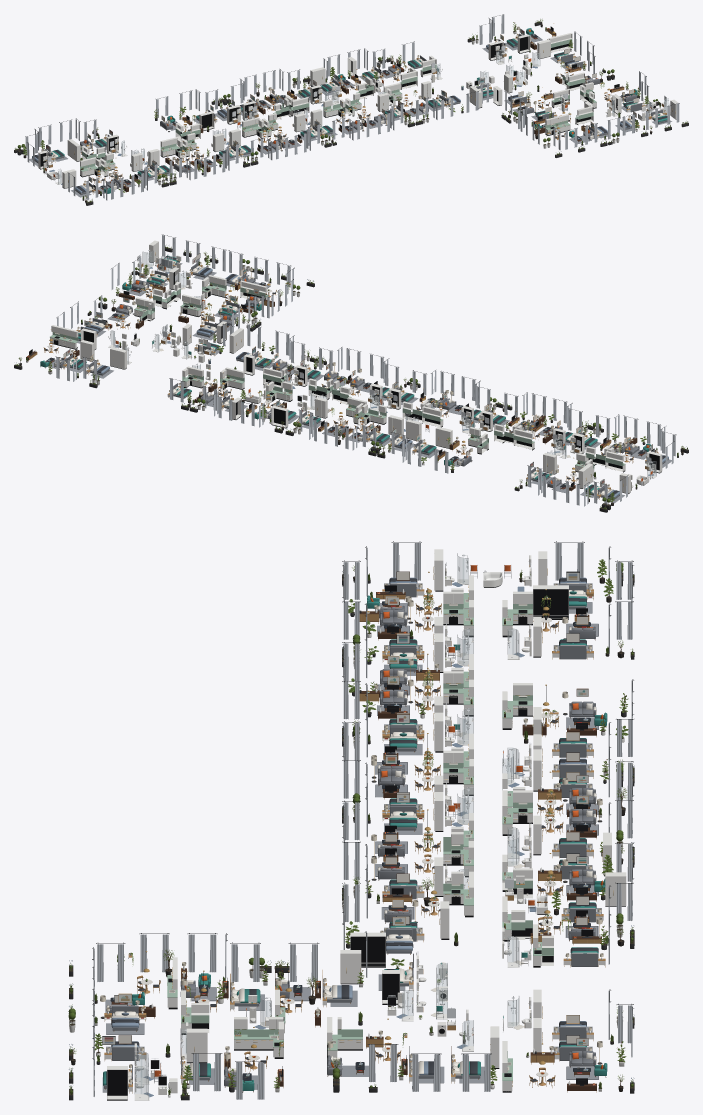
The picture shows the model from 3 angles, top to bottom: view 1: azimuth 30°, elevation 25°; view 2: azimuth 150°, elevation 25°; view 3: azimuth 270°, elevation 25°; orthographic projection. The views are drawn at different scales.
Visible parts, largest first — view 1: in_L04_u51_furn_kitchen_run1__int_white_gloss, in_L04_u48_furn_kitchen_run1__int_white_gloss; view 2: in_L04_u48_furn_kitchen_run1__int_white_gloss; view 3: in_L04_u50_furn_kitchen_run1__int_white_gloss, in_L04_u62_furn_wardrobe1__int_white_gloss, in_L04_u54_furn_wardrobe2__int_white_gloss.
Part boxes in pixels (x1,y1,x2,y2): in_L04_u51_furn_kitchen_run1__int_white_gloss: (545, 114, 570, 135); in_L04_u48_furn_kitchen_run1__int_white_gloss: (548, 33, 572, 52); in_L04_u48_furn_kitchen_run1__int_white_gloss: (50, 325, 78, 349); in_L04_u50_furn_kitchen_run1__int_white_gloss: (234, 1017, 283, 1050); in_L04_u62_furn_wardrobe1__int_white_gloss: (533, 585, 568, 619); in_L04_u54_furn_wardrobe2__int_white_gloss: (350, 932, 385, 967).
Size of the model in its own units: 82.64 by 3 by 37.95.
